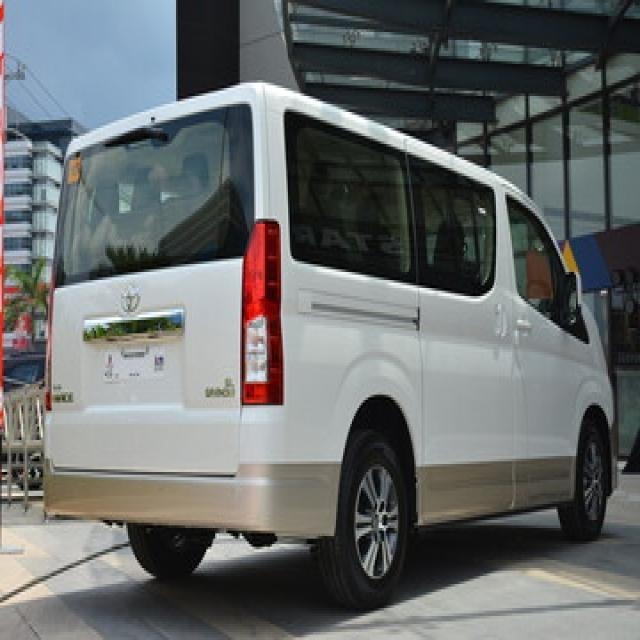van: (44, 83, 613, 608)
